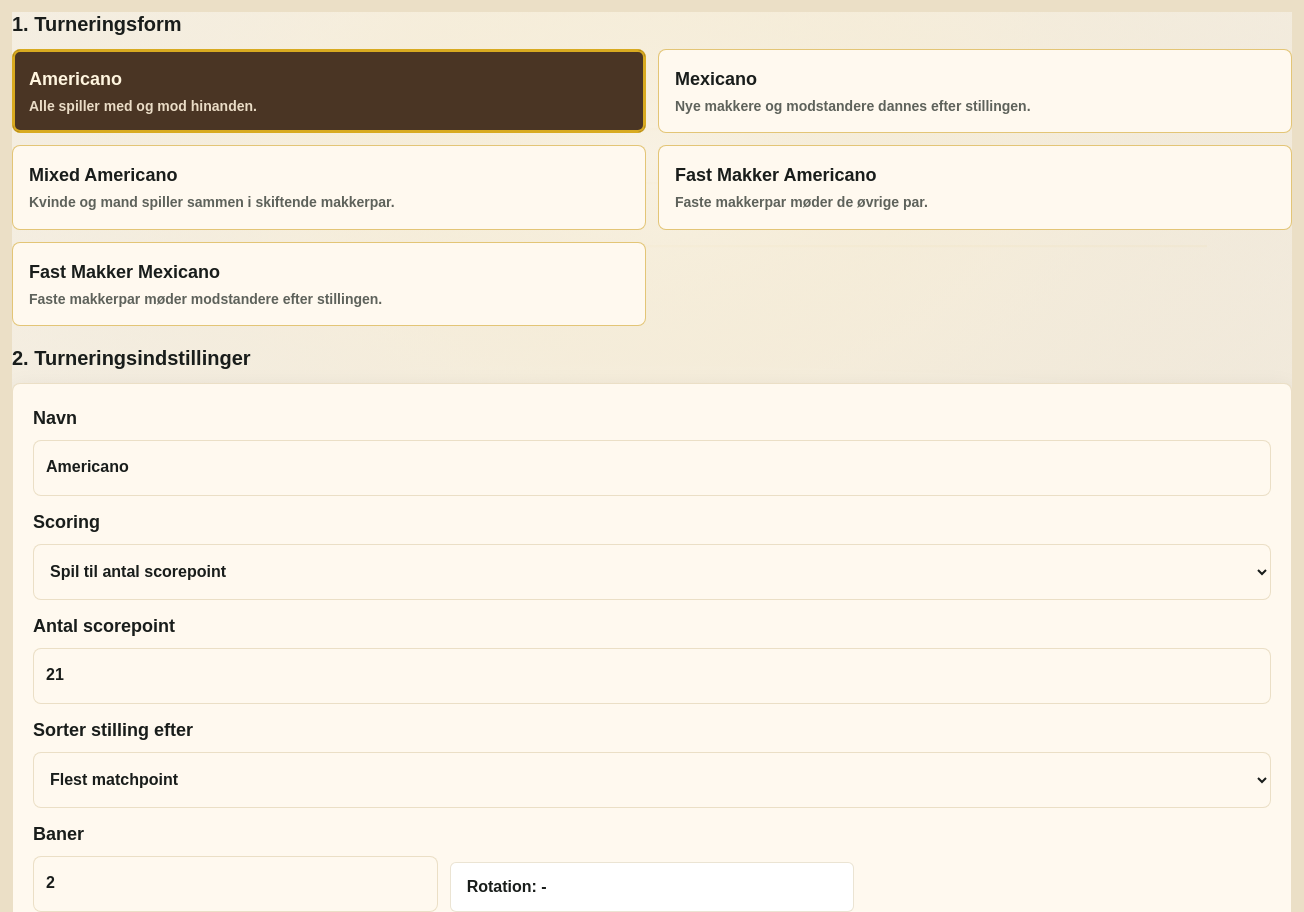
Scenario: tournament setup form › selects every format from pointer input before a click event is required
Press the mouse on the button "Americano Alle spiller med og mod hinanden." at (76, 79), box x1=12 y1=49 x2=646 y2=133
expect the field labelled "Navn" holds "Americano": met, box x1=33 y1=440 x2=1271 y2=496
Press the mouse on the button "Mexicano Nye makkere og modstandere dannes efter stillingen." at (716, 79), box x1=658 y1=49 x2=1292 y2=133
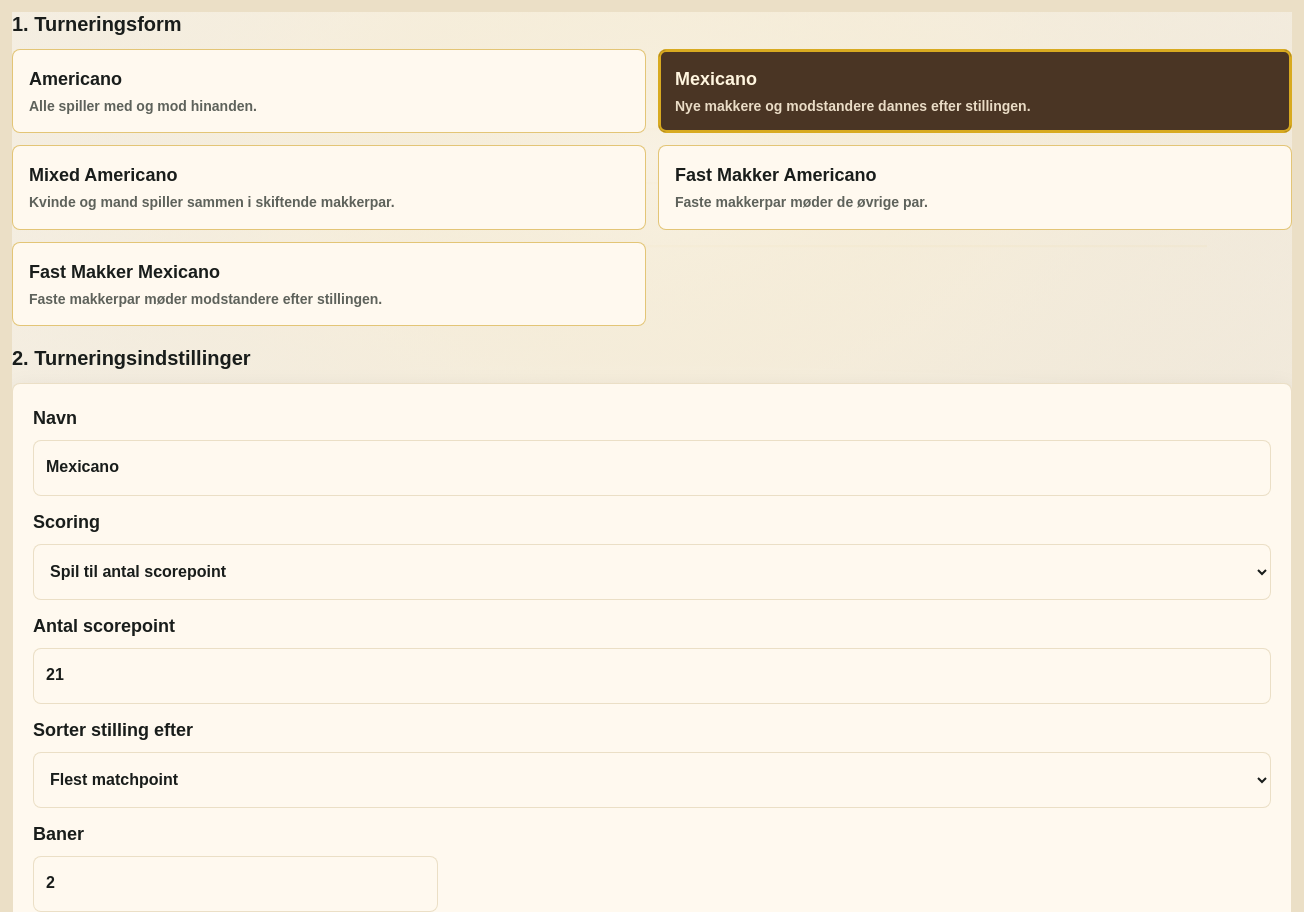
expect the field labelled "Navn" holds "Mexicano": met, box x1=33 y1=440 x2=1271 y2=496
Press the mouse on the button that starts with "Mixed Americano" at (103, 175), box x1=12 y1=145 x2=646 y2=230
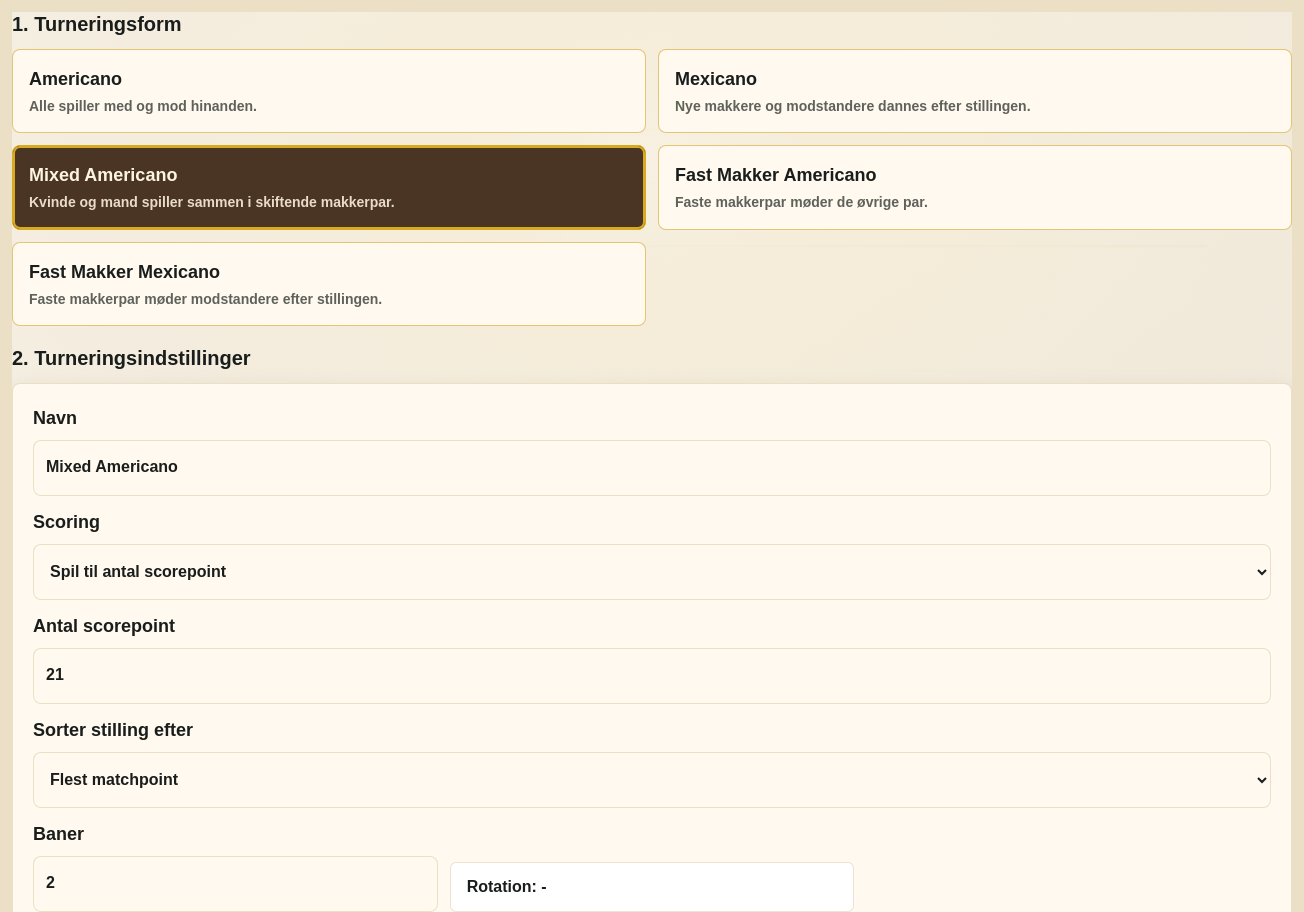
expect the field labelled "Navn" holds "Mixed Americano": met, box x1=33 y1=440 x2=1271 y2=496
Press the mouse on the button "Fast Makker Americano Faste makkerpar møder de øvrige par." at (776, 175), box x1=658 y1=145 x2=1292 y2=230
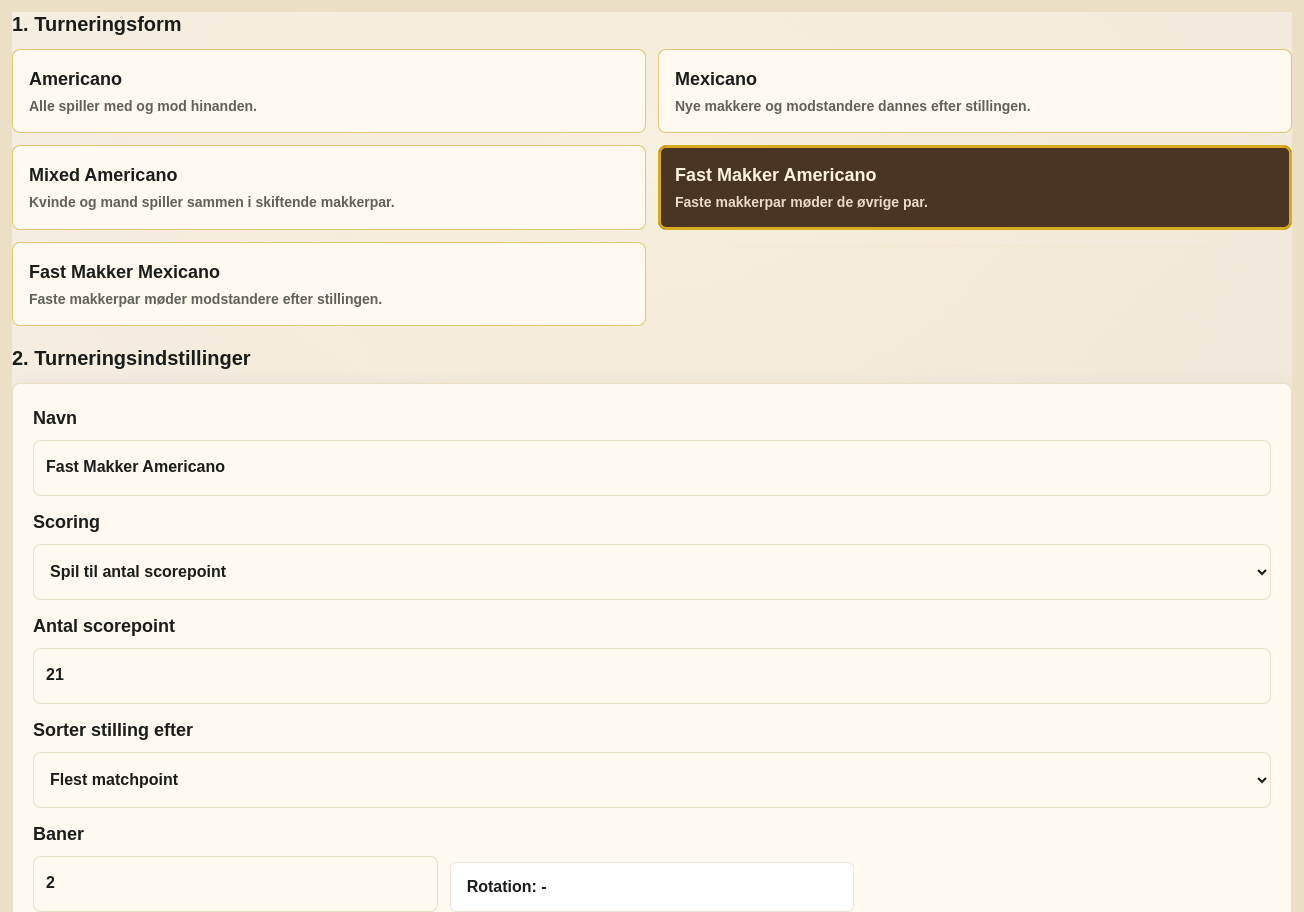
expect the field labelled "Navn" holds "Fast Makker Americano": met, box x1=33 y1=440 x2=1271 y2=496
Press the mouse on the button that starts with "Fast Makker Mexicano" at (125, 272), box x1=12 y1=242 x2=646 y2=326
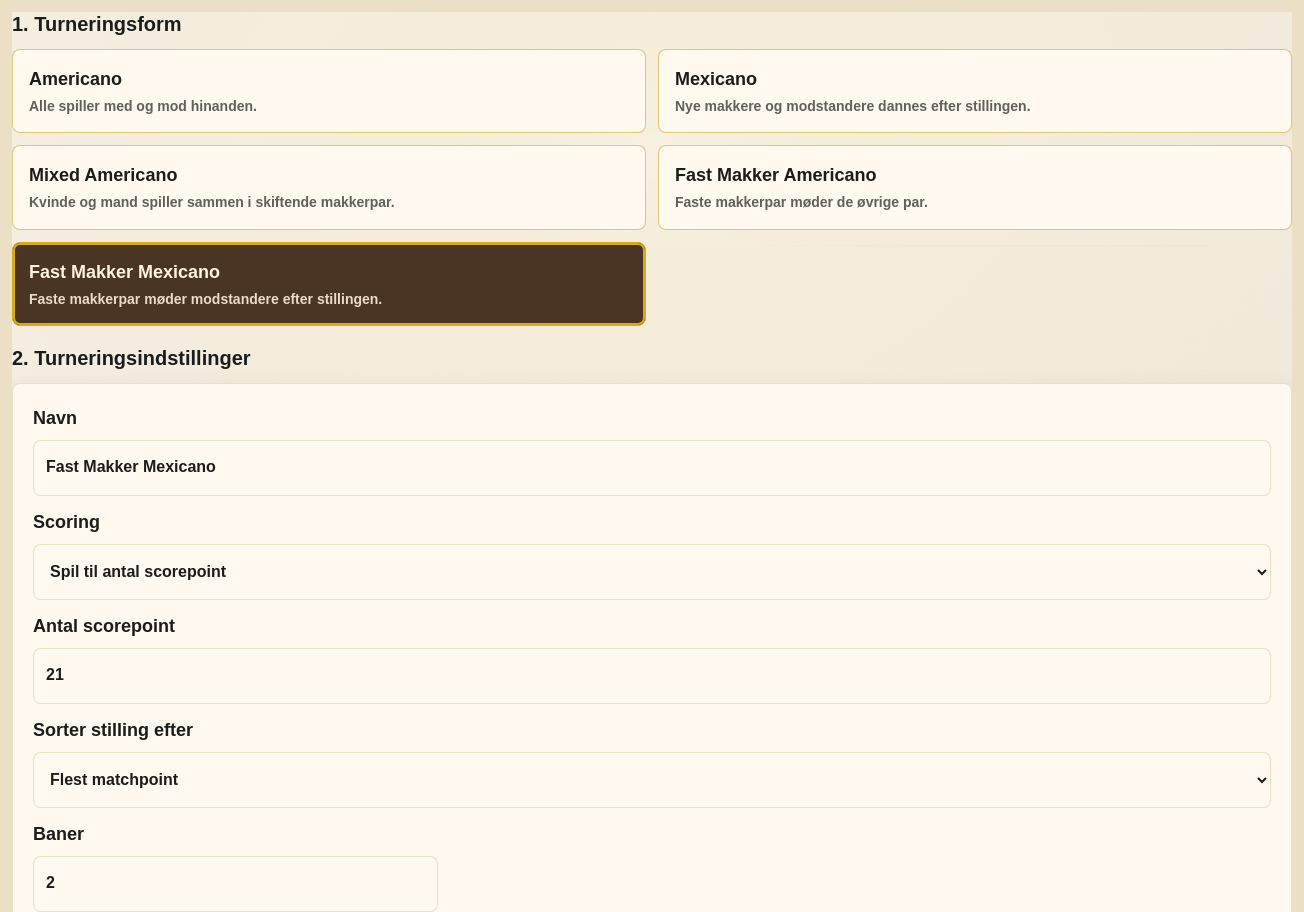
expect the field labelled "Navn" holds "Fast Makker Mexicano": met, box x1=33 y1=440 x2=1271 y2=496
